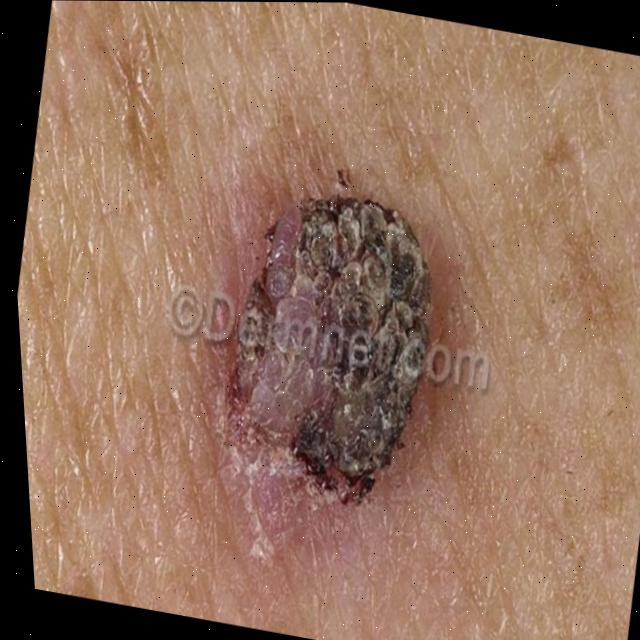Eczema: (212, 188, 470, 502)
